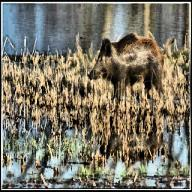boar: (87, 31, 173, 101)
